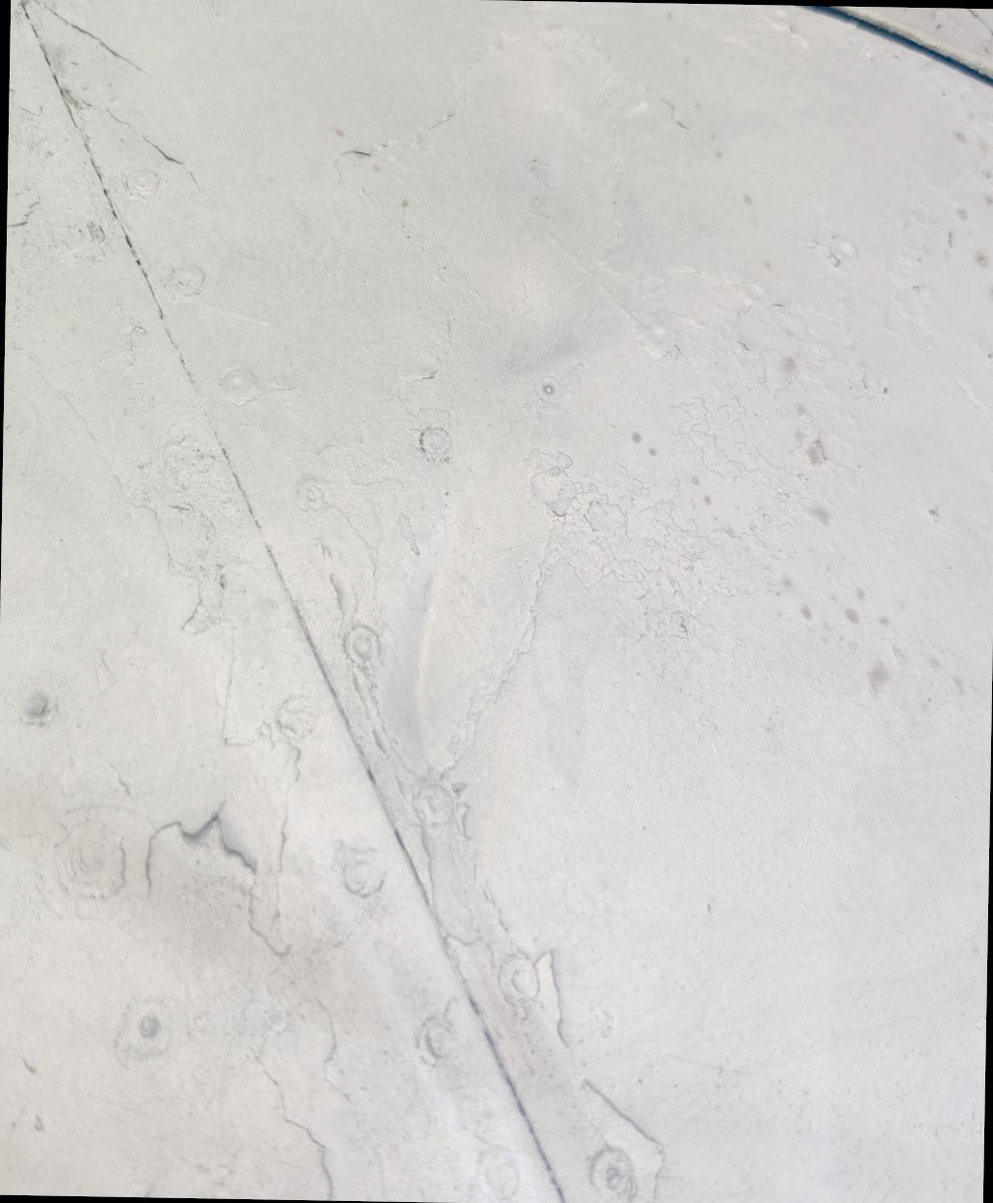dent: (342, 475, 549, 812)
